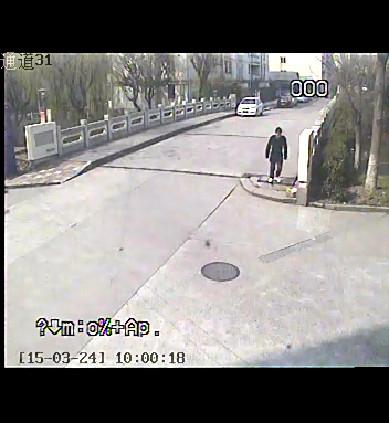person: (262, 125, 292, 185)
